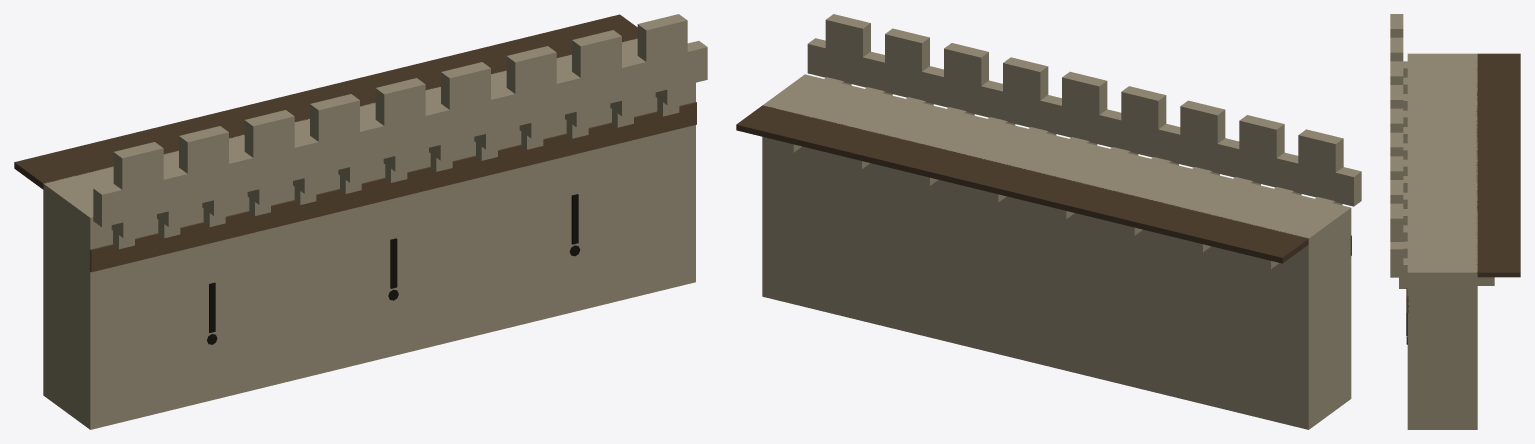
File: LateWallStraight.fbx
The picture shows the model from 3 angles, left to right: view 1: azimuth 30°, elevation 25°; view 2: azimuth 150°, elevation 25°; view 3: azimuth 270°, elevation 25°; orthographic projection. The views are drawn at different scales.
Parts seen in each view (by area): view 1: LateWallStraight; view 2: LateWallStraight; view 3: LateWallStraight.
Part boxes in pixels (left/top/right/bottom): LateWallStraight: left=14, top=14, right=707, bottom=429; LateWallStraight: left=736, top=14, right=1361, bottom=429; LateWallStraight: left=1390, top=14, right=1520, bottom=429.
Size of the model in its own units: 1202 by 522 by 302.
Materials: 4 (4 with a texture image).
